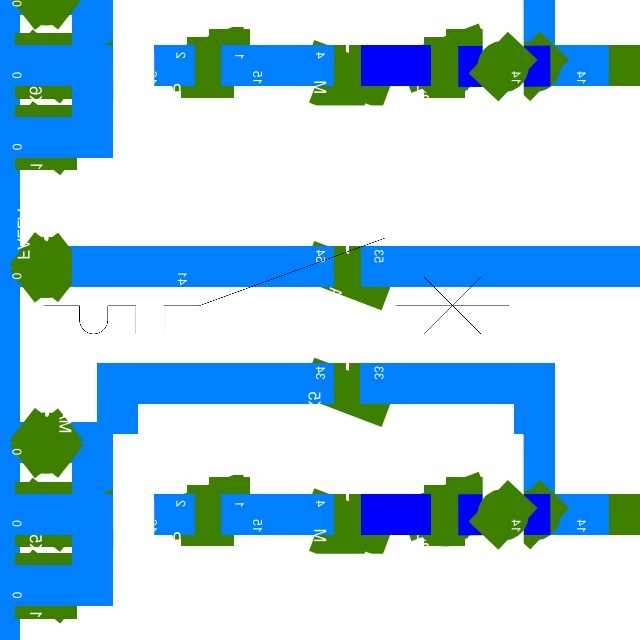interruptor_termomagnetico: (32, 226, 521, 346)
